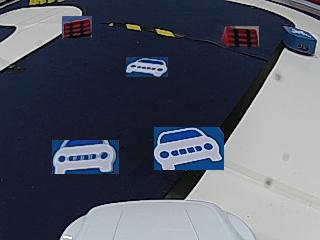prop: (283, 26, 316, 56)
